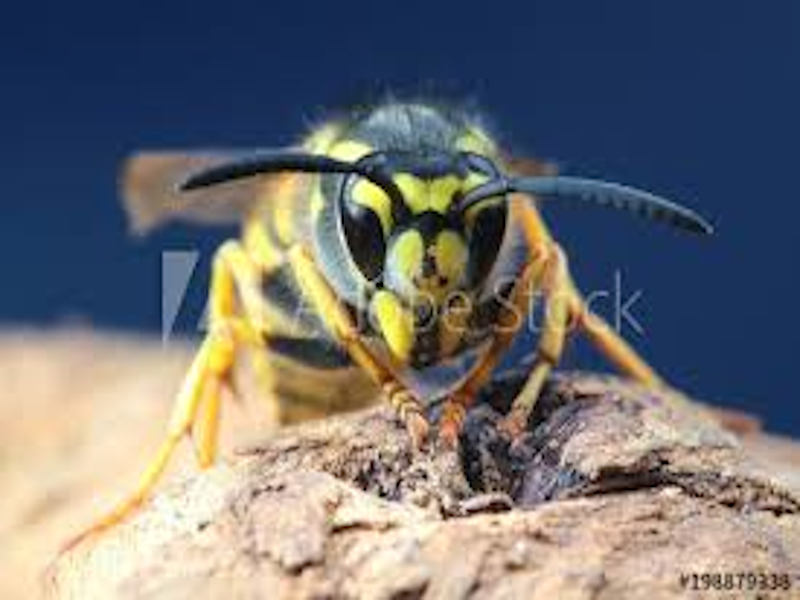chax: (62, 48, 729, 526)
